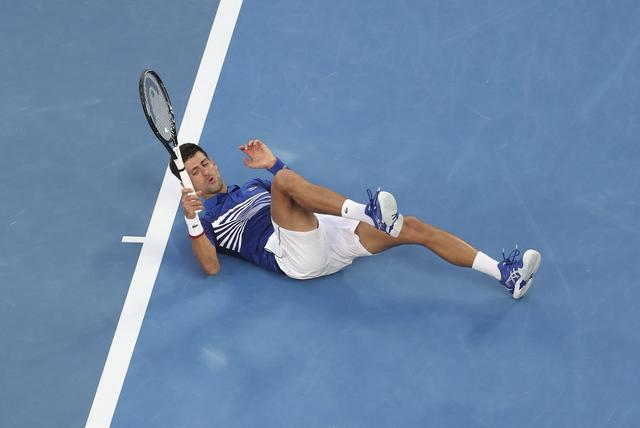down: (165, 136, 546, 312)
